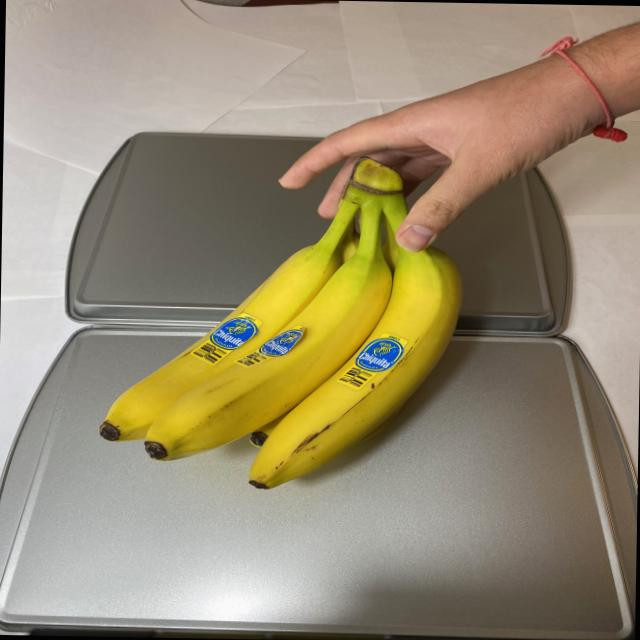banana: (95, 152, 470, 492)
